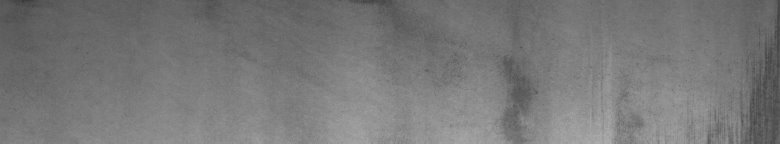ka: (704, 28, 776, 136)
